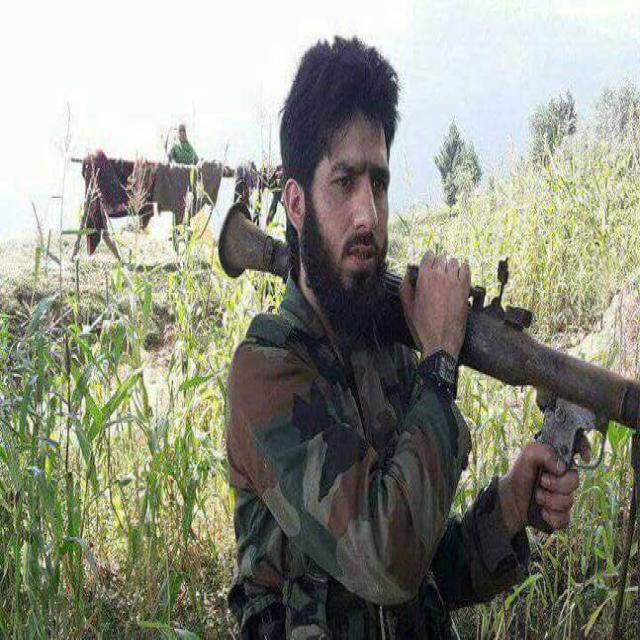Forest: (0, 0, 640, 640)
Militant: (198, 9, 587, 640), (138, 104, 234, 326)
